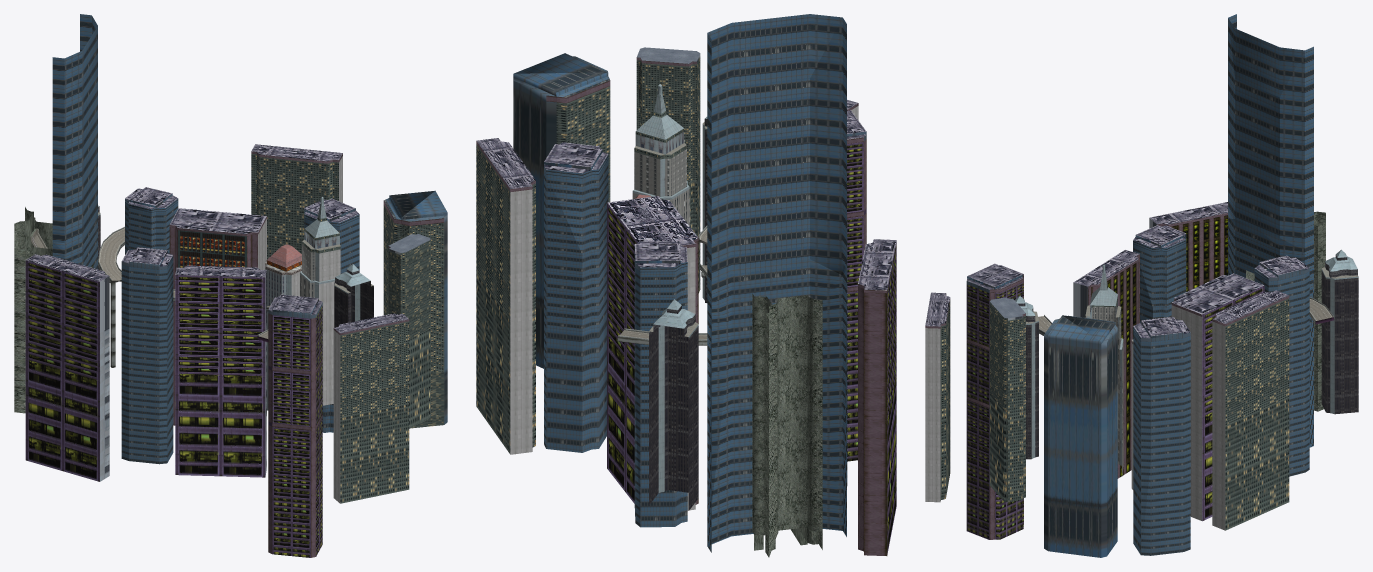
Rendered from STG0100_OS_18.fbx.
The picture shows the model from 3 angles, left to right: view 1: azimuth 30°, elevation 25°; view 2: azimuth 150°, elevation 25°; view 3: azimuth 270°, elevation 25°; orthographic projection. The views are drawn at different scales.
Visible parts, largest first — view 1: STG0100_OS_18_default; view 2: STG0100_OS_18_default; view 3: STG0100_OS_18_default.
Part boxes in pixels (<box>): STG0100_OS_18_default: <box>14,14,447,557</box>; STG0100_OS_18_default: <box>476,14,896,557</box>; STG0100_OS_18_default: <box>925,14,1358,557</box>.
Size of the model in its own units: 3722 by 4488 by 3915.
